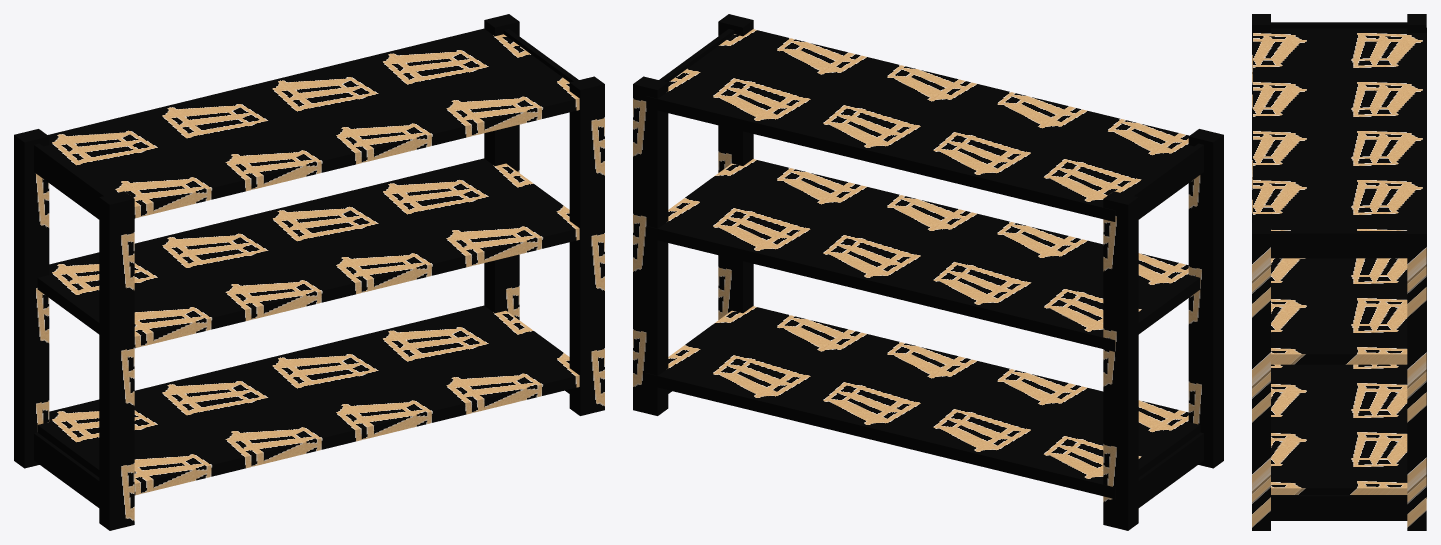
The model's file is pinewoodRackLowHeight.obj.
The picture shows the model from 3 angles, left to right: view 1: azimuth 30°, elevation 25°; view 2: azimuth 150°, elevation 25°; view 3: azimuth 270°, elevation 25°; orthographic projection. The views are drawn at different scales.
Visible parts, largest first — view 1: piece_7_Cube_1_49, piece_6_Cube_1_41, piece_5_Cube_1_33, piece_3_Cube_1_17, piece_2_Cube_1_9, piece_1_Cube_1_1, piece_4_Cube_1_25, piece_9_Cube_1_65, piece_8_Cube_1_57, piece_11_Cube_1_81; view 2: piece_7_Cube_1_49, piece_6_Cube_1_41, piece_5_Cube_1_33, piece_1_Cube_1_1, piece_4_Cube_1_25, piece_3_Cube_1_17, piece_2_Cube_1_9, piece_9_Cube_1_65, piece_8_Cube_1_57, piece_11_Cube_1_81; view 3: piece_7_Cube_1_49, piece_5_Cube_1_33, piece_6_Cube_1_41, piece_4_Cube_1_25, piece_2_Cube_1_9, piece_11_Cube_1_81, piece_10_Cube_1_73, piece_9_Cube_1_65, piece_3_Cube_1_17, piece_1_Cube_1_1.
Part boxes in pixels (x1,y1,x2,y2): piece_7_Cube_1_49: (44,28,579,218); piece_6_Cube_1_41: (37,158,579,348); piece_5_Cube_1_33: (37,305,579,495); piece_3_Cube_1_17: (99,191,134,530); piece_2_Cube_1_9: (569,76,604,415); piece_1_Cube_1_1: (14,129,49,468); piece_4_Cube_1_25: (484,14,519,319); piece_9_Cube_1_65: (34,143,108,219); piece_8_Cube_1_57: (34,432,99,507); piece_11_Cube_1_81: (503,29,578,82); piece_7_Cube_1_49: (646,29,1193,221); piece_6_Cube_1_41: (646,159,1200,351); piece_5_Cube_1_33: (646,306,1200,498); piece_1_Cube_1_1: (1103,191,1138,530); piece_4_Cube_1_25: (633,76,668,415); piece_3_Cube_1_17: (1188,129,1223,468); piece_2_Cube_1_9: (718,14,753,319); piece_9_Cube_1_65: (1129,143,1203,219); piece_8_Cube_1_57: (1138,432,1203,507); piece_11_Cube_1_81: (659,29,734,82); piece_7_Cube_1_49: (1253,28,1426,245); piece_5_Cube_1_33: (1271,364,1426,498); piece_6_Cube_1_41: (1271,246,1426,364); piece_4_Cube_1_25: (1407,223,1426,530); piece_2_Cube_1_9: (1252,223,1270,530); piece_11_Cube_1_81: (1271,231,1407,258); piece_10_Cube_1_73: (1271,495,1407,520); piece_9_Cube_1_65: (1271,22,1407,28); piece_3_Cube_1_17: (1252,14,1270,222); piece_1_Cube_1_1: (1407,14,1426,32).
Size of the model in its own units: 89.8 by 56.5 by 30.17.
